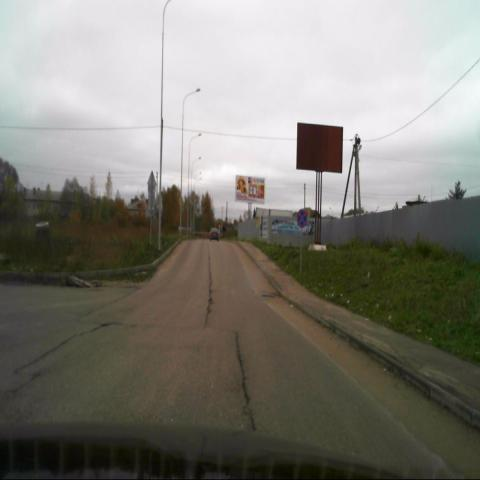3_27: (296, 208, 308, 229)
